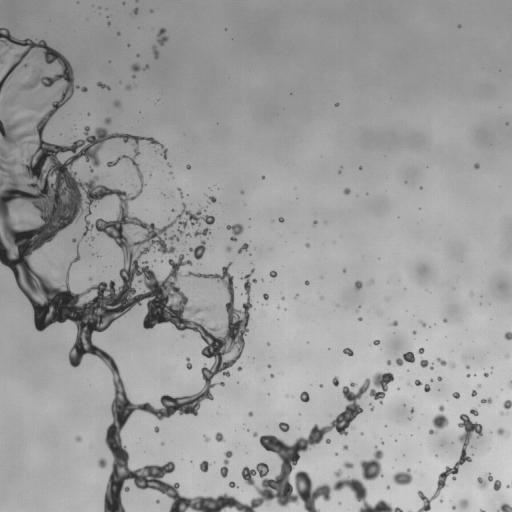droplet: (360, 446, 383, 480), (477, 472, 501, 490), (392, 468, 412, 485), (189, 240, 205, 259), (226, 224, 243, 241), (395, 352, 414, 365), (497, 503, 511, 511), (199, 461, 209, 472), (238, 243, 248, 253), (279, 422, 289, 432), (300, 391, 309, 402), (215, 432, 224, 441), (343, 348, 353, 356), (98, 458, 106, 468), (503, 400, 511, 409), (332, 376, 339, 386), (343, 462, 353, 469), (420, 359, 428, 367), (131, 64, 140, 71), (437, 358, 446, 365), (355, 281, 362, 289), (504, 332, 511, 340), (470, 408, 478, 415), (460, 499, 467, 507), (481, 398, 491, 403), (270, 270, 277, 277), (497, 428, 504, 435), (208, 196, 216, 202), (424, 384, 430, 392), (452, 392, 459, 398), (229, 481, 236, 487), (104, 118, 110, 124), (415, 379, 421, 385), (263, 293, 268, 300), (114, 101, 120, 106), (344, 188, 349, 194), (391, 321, 397, 326), (373, 340, 379, 345), (418, 348, 424, 353), (471, 390, 476, 396), (204, 436, 209, 442), (80, 87, 87, 91), (474, 163, 479, 168), (278, 217, 283, 222), (154, 427, 159, 432), (76, 436, 81, 441), (343, 445, 348, 450), (134, 8, 138, 13), (226, 247, 231, 251), (387, 360, 391, 365), (483, 373, 488, 377), (350, 382, 355, 386), (253, 432, 257, 437), (506, 483, 511, 487), (144, 65, 148, 69), (126, 85, 130, 89), (186, 165, 190, 169), (305, 243, 309, 247), (305, 281, 309, 285), (443, 318, 447, 322), (421, 322, 425, 326), (237, 366, 241, 370), (437, 376, 441, 380), (248, 412, 252, 416), (326, 439, 330, 443), (313, 220, 316, 225), (219, 382, 224, 385), (335, 103, 339, 106), (370, 406, 373, 410), (410, 408, 413, 412), (167, 163, 170, 166), (358, 317, 361, 320), (270, 374, 273, 377), (467, 374, 470, 377), (413, 330, 415, 334), (480, 509, 484, 511), (107, 22, 110, 24), (359, 166, 361, 169), (262, 176, 264, 179), (370, 280, 373, 282), (451, 364, 454, 366), (430, 366, 432, 369), (320, 384, 322, 387), (387, 486, 389, 489), (156, 500, 159, 502), (24, 64, 26, 66), (241, 191, 243, 193), (91, 237, 93, 239), (343, 269, 345, 271), (295, 295, 297, 297), (282, 297, 284, 299), (268, 365, 270, 367), (466, 366, 468, 368), (430, 379, 432, 381), (409, 417, 411, 419), (440, 499, 442, 501), (452, 506, 454, 508)
ligament: (0, 28, 403, 511), (418, 414, 482, 511), (429, 405, 448, 434), (220, 451, 232, 477), (157, 28, 167, 45), (194, 228, 210, 236), (178, 228, 190, 236), (97, 82, 109, 89), (152, 46, 158, 58), (186, 358, 191, 369), (177, 188, 182, 197), (509, 380, 511, 388), (135, 0, 138, 1)
